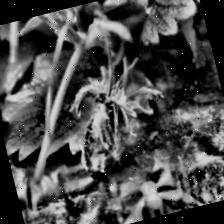Gray Mold: (58, 50, 178, 184)
